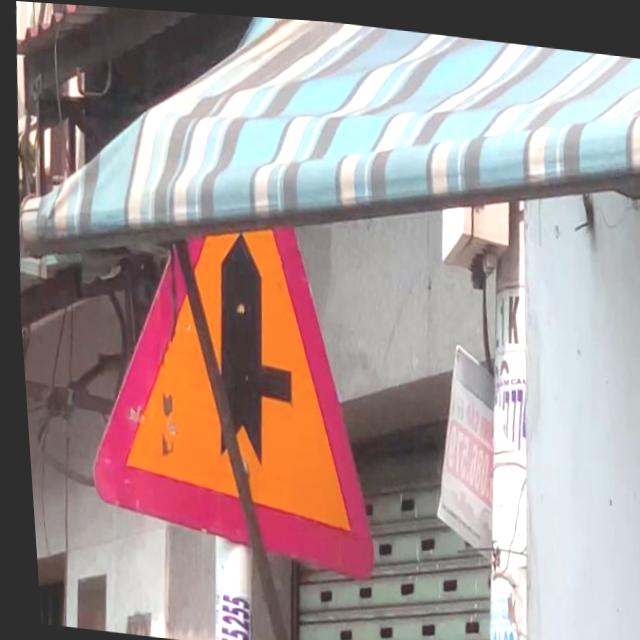Giao nhau voi duong khong uu tien ben phai: (57, 49, 395, 584)
